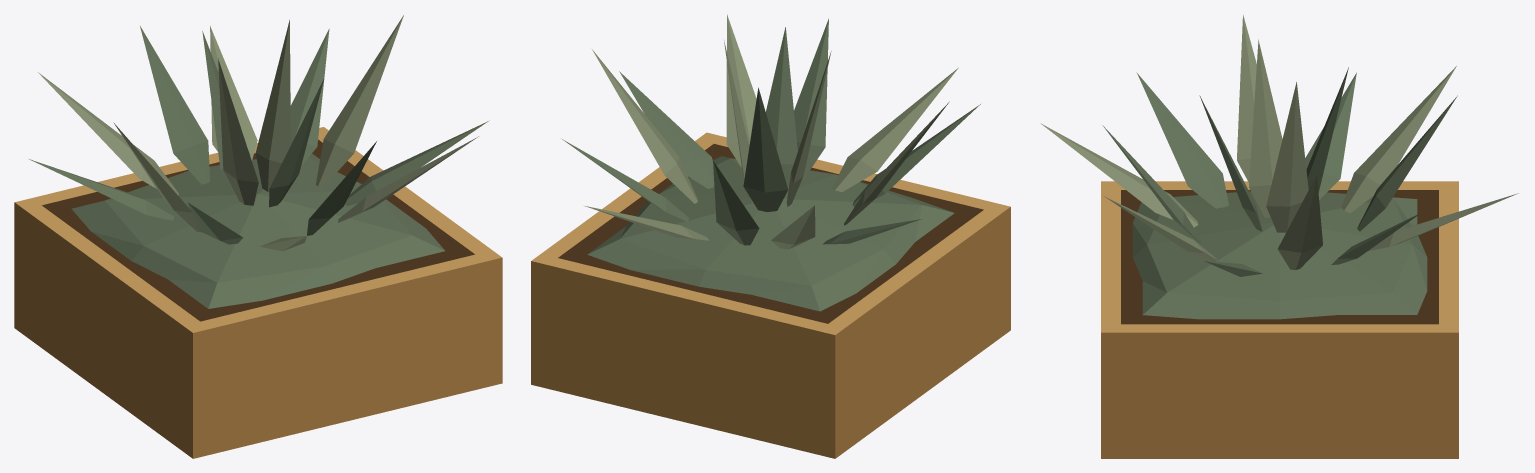
Rendered from item_produce_smokeleaf_a.obj.
3 views of the same model, side by side, from view 1: azimuth 30°, elevation 25°; view 2: azimuth 150°, elevation 25°; view 3: azimuth 270°, elevation 25° (orthographic).
Size of the model in its own units: 0.7142 by 0.5674 by 0.7692.
